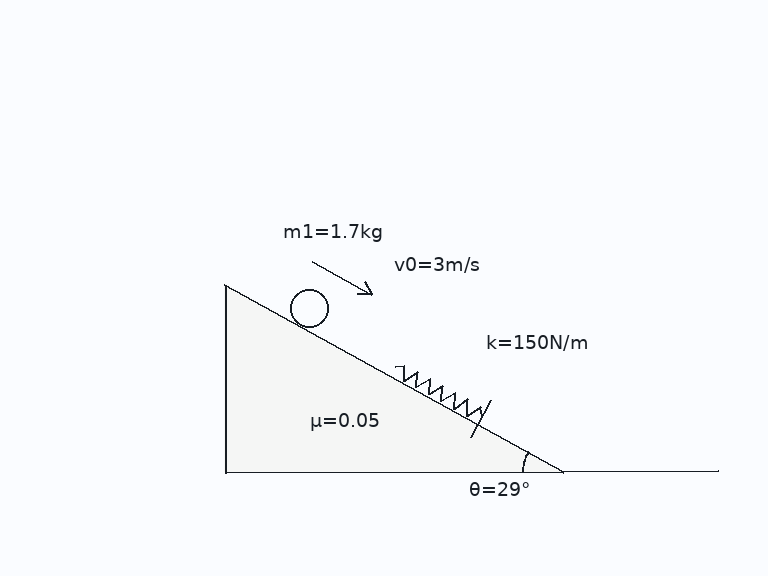ball: (288, 287, 330, 329)
ramp: (223, 281, 565, 473)
spring: (393, 363, 485, 418)
